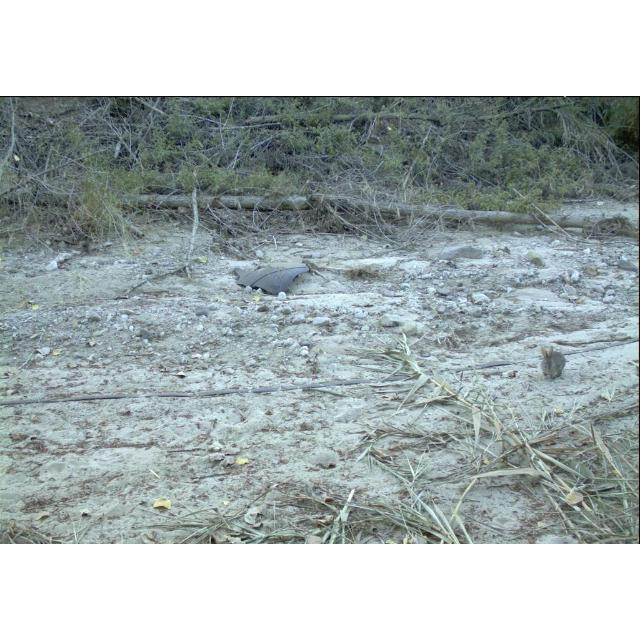animals: (538, 343, 568, 387)
